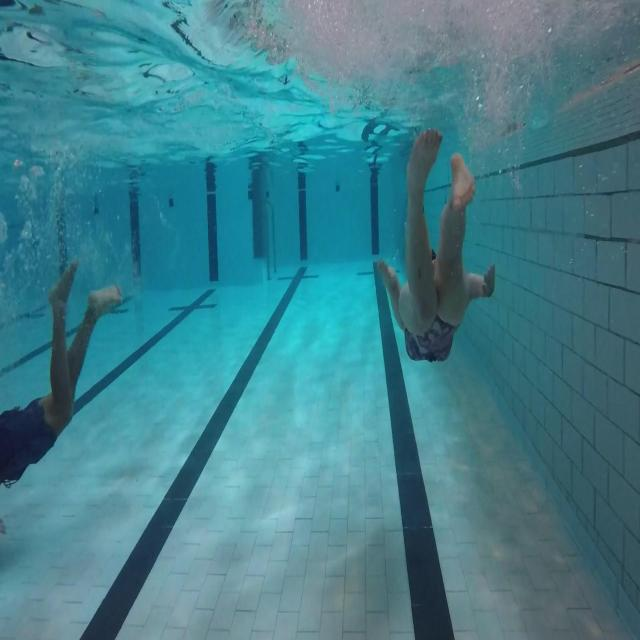human: (0, 256, 130, 489), (373, 126, 496, 362)
